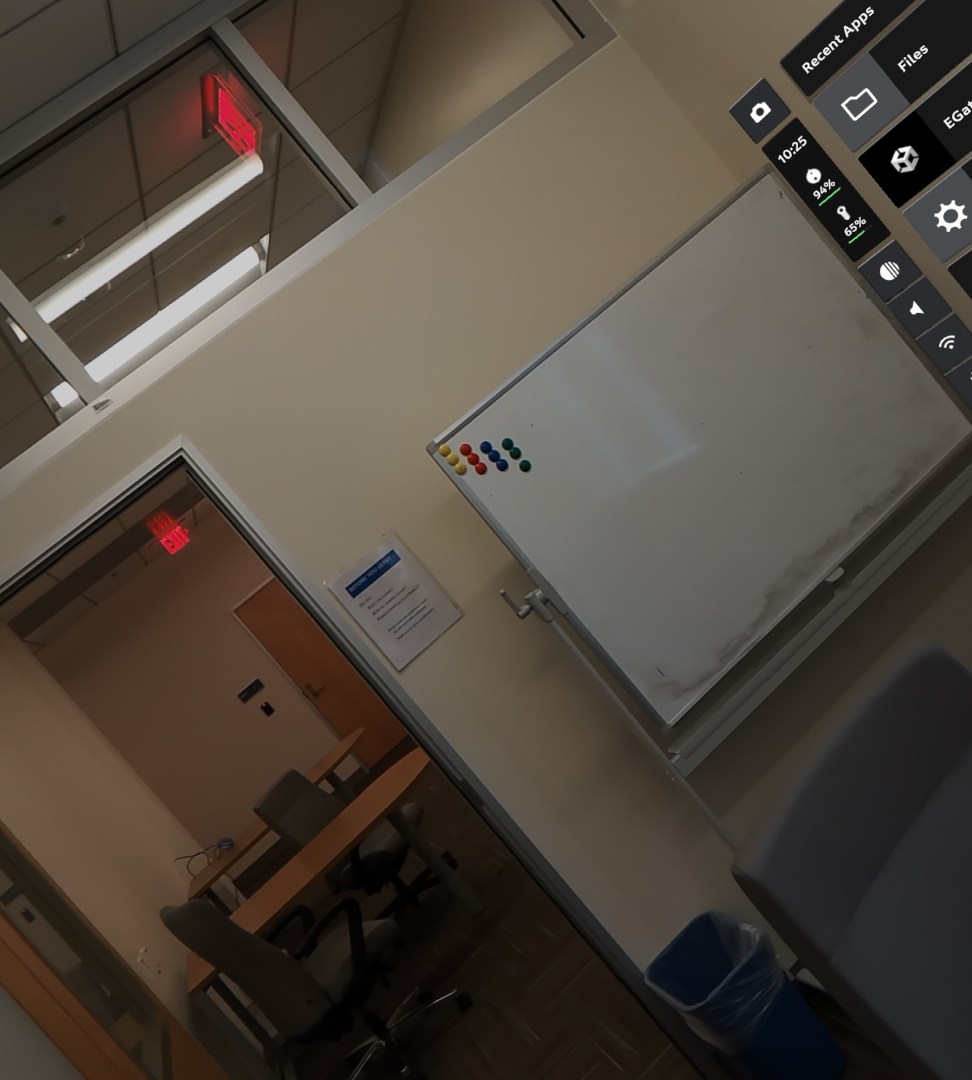emergency_exit: (759, 115, 890, 262), (199, 69, 264, 161)
